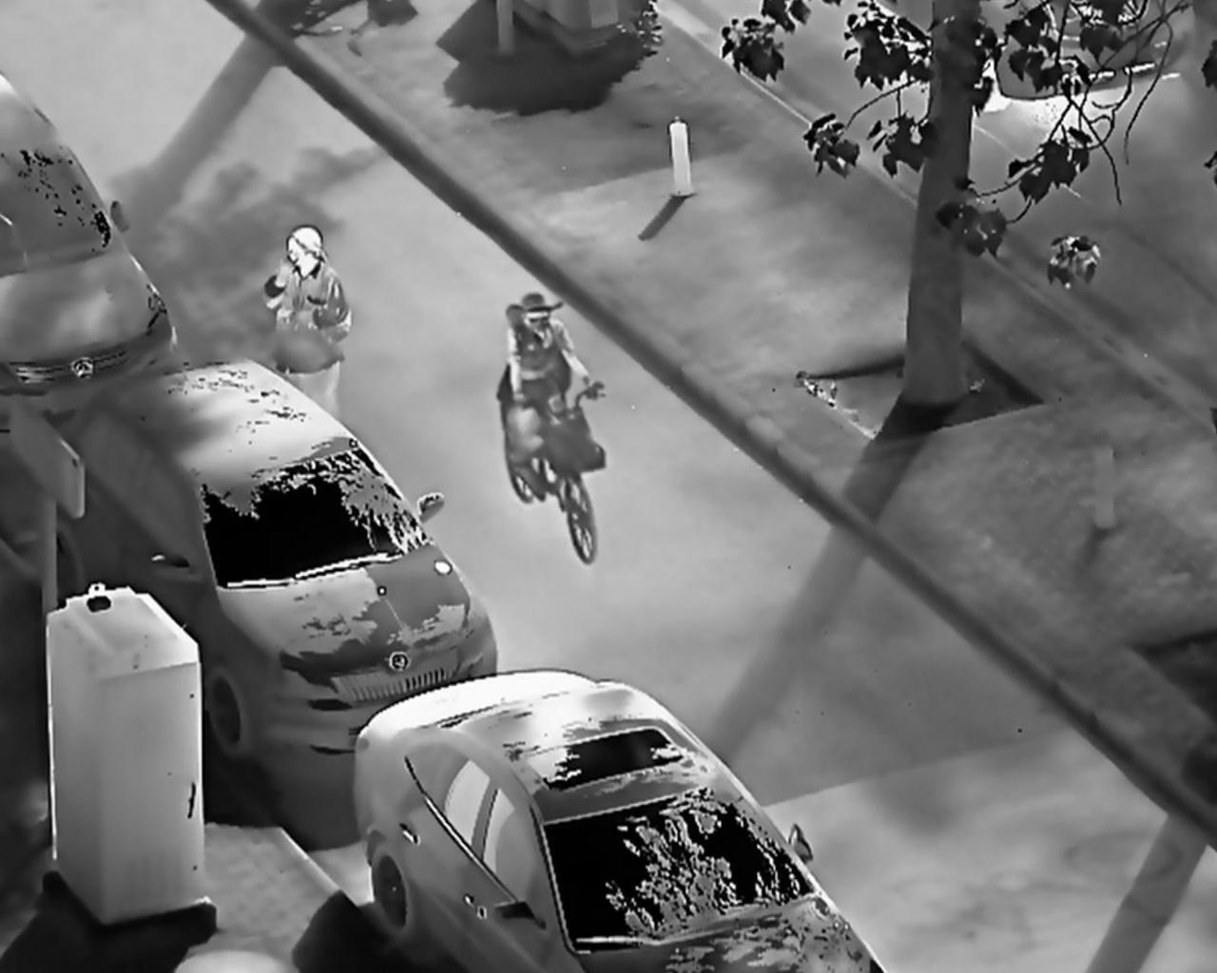person: (500, 286, 608, 506), (262, 222, 353, 422)
